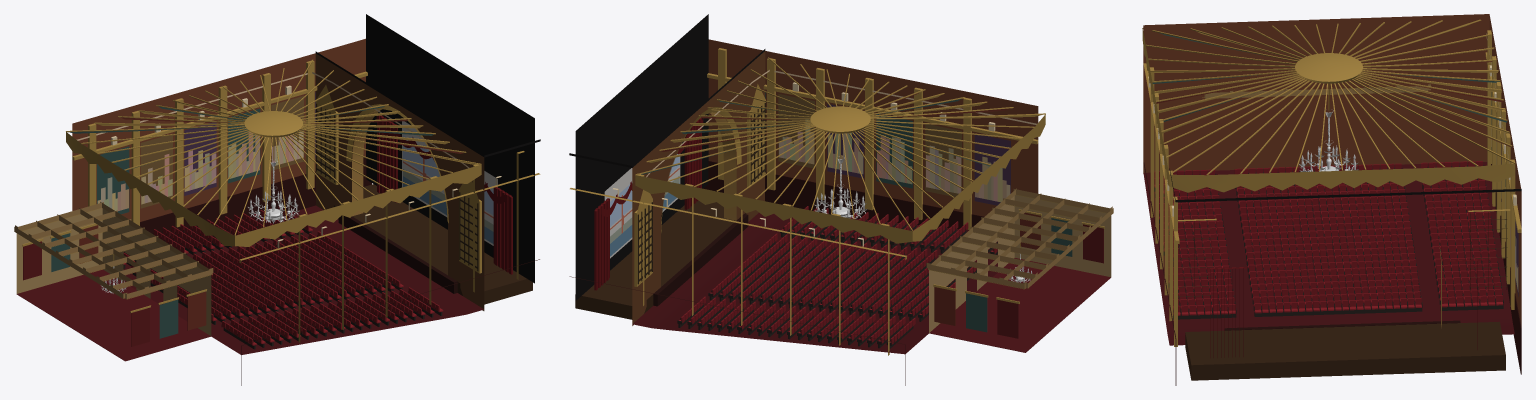
File: castro_int.glb
3 views of the same model, side by side, from view 1: azimuth 30°, elevation 25°; view 2: azimuth 150°, elevation 25°; view 3: azimuth 270°, elevation 25° (orthographic). The views are drawn at different scales.
Visible parts, largest first — view 1: I_x_plaster, I_x_gold, I_d_x_velvet, I_x_carpet_red, I_x_veneer, I_metal, I_x_velvet, I_screen, I_d_metal, I_p_Chandelier_03__0, I_ceilglow; view 2: I_x_plaster, I_x_gold, I_x_carpet_red, I_d_x_velvet, I_x_veneer, I_metal, I_d_metal, I_x_velvet, I_screen, I_p_Chandelier_03__0, I_ceilglow; view 3: I_x_plaster, I_d_x_velvet, I_x_gold, I_x_veneer, I_x_carpet_red, I_d_metal, I_metal, I_x_velvet, I_p_Chandelier_03__0.
Part boxes in pixels (left/top/right/bottom): I_x_plaster: left=14, top=14, right=540, bottom=346; I_x_gold: left=22, top=59, right=540, bottom=342; I_d_x_velvet: left=123, top=207, right=443, bottom=345; I_x_carpet_red: left=16, top=205, right=483, bottom=361; I_x_veneer: left=140, top=157, right=539, bottom=385; I_metal: left=123, top=103, right=478, bottom=349; I_x_velvet: left=376, top=115, right=512, bottom=274; I_screen: left=402, top=121, right=497, bottom=245; I_d_metal: left=124, top=214, right=435, bottom=343; I_p_Chandelier_03__0: left=102, top=161, right=298, bottom=293; I_ceilglow: left=76, top=72, right=469, bottom=168; I_x_plaster: left=569, top=14, right=1113, bottom=338; I_x_gold: left=570, top=48, right=1106, bottom=355; I_x_carpet_red: left=632, top=212, right=1110, bottom=354; I_d_x_velvet: left=677, top=206, right=997, bottom=344; I_x_veneer: left=569, top=160, right=984, bottom=385; I_metal: left=637, top=103, right=997, bottom=348; I_d_metal: left=677, top=218, right=997, bottom=345; I_x_velvet: left=594, top=118, right=703, bottom=290; I_screen: left=604, top=154, right=680, bottom=258; I_p_Chandelier_03__0: left=816, top=156, right=1031, bottom=282; I_ceilglow: left=646, top=70, right=1036, bottom=177; I_x_plaster: left=1142, top=14, right=1521, bottom=326; I_d_x_velvet: left=1154, top=161, right=1503, bottom=315; I_x_gold: left=1142, top=19, right=1521, bottom=346; I_x_veneer: left=1143, top=162, right=1521, bottom=385; I_x_carpet_red: left=1143, top=162, right=1514, bottom=345; I_d_metal: left=1163, top=165, right=1503, bottom=315; I_metal: left=1154, top=181, right=1507, bottom=319; I_x_velvet: left=1210, top=259, right=1484, bottom=357; I_p_Chandelier_03__0: left=1300, top=110, right=1356, bottom=171.
Bounding box in the file's own units: 42.96 × 17.8 × 28.86.
